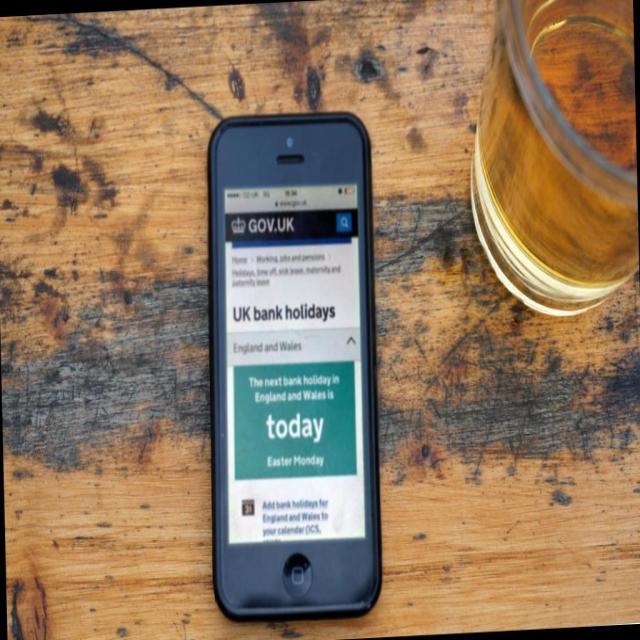handphone: (216, 111, 373, 618)
